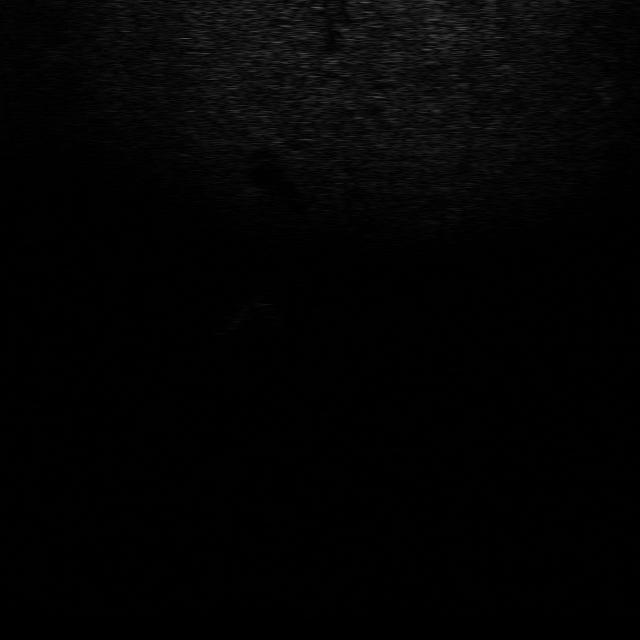human body: (225, 284, 283, 328)
